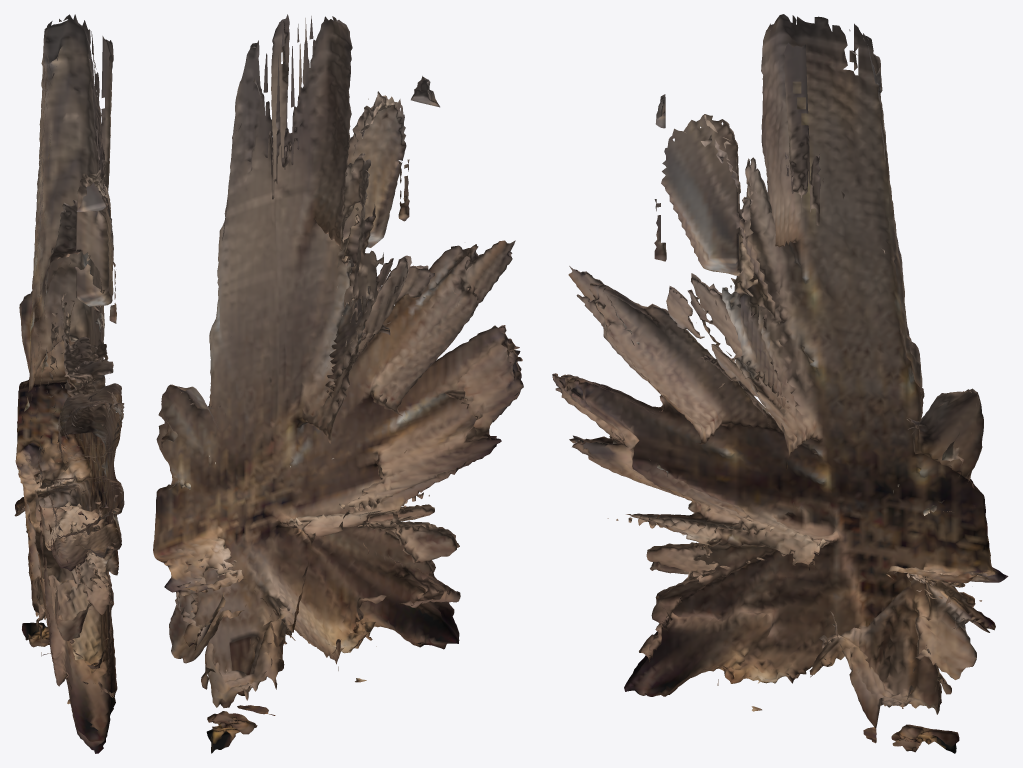
The model's file is HogwardsCollider.glb.
The picture shows the model from 3 angles, left to right: view 1: azimuth 30°, elevation 25°; view 2: azimuth 150°, elevation 25°; view 3: azimuth 270°, elevation 25°; orthographic projection. The views are drawn at different scales.
Parts seen in each view (by area): view 1: world; view 2: world; view 3: world.
Part boxes in pixels (x1,y1,x2,y2): world: (14, 14, 124, 753); world: (153, 14, 523, 753); world: (552, 14, 1008, 753).
Size of the model in its own units: 10.53 by 36.16 by 20.84.
